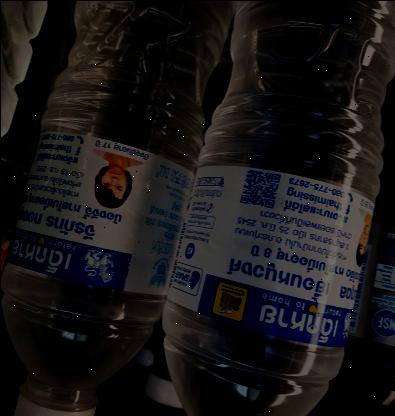Plastic Bottle: (0, 0, 234, 416), (162, 0, 395, 416)
